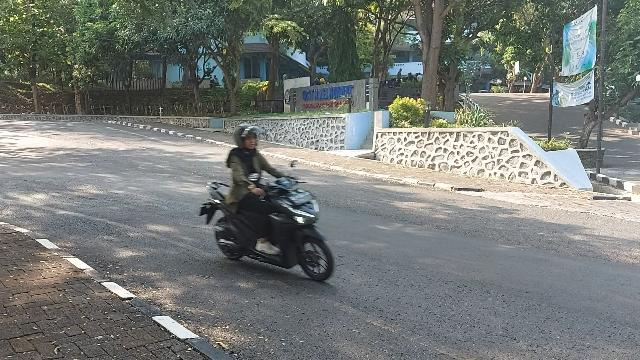helm: (236, 125, 265, 150)
motor: (201, 161, 336, 284)
